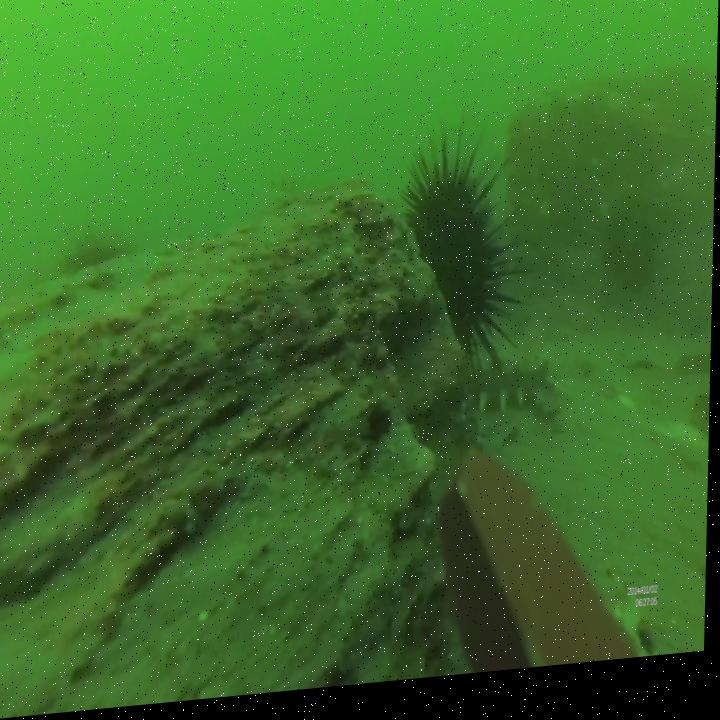echinus: (399, 117, 538, 399)
holothurian: (417, 358, 568, 439)
